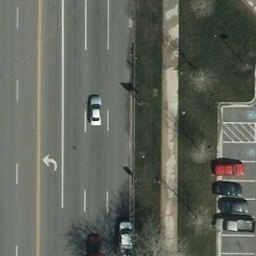car: (215, 215, 253, 233), (211, 160, 249, 178), (208, 178, 246, 196), (213, 197, 251, 215), (118, 221, 137, 256), (90, 94, 104, 125)
